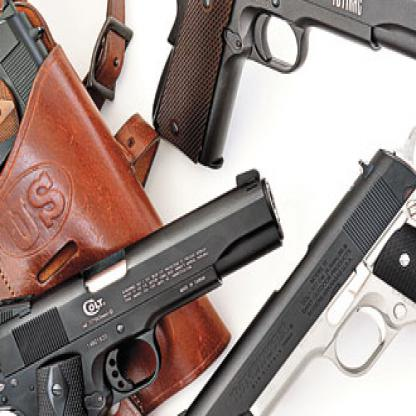gun: (0, 164, 293, 415), (170, 122, 415, 414), (146, 0, 415, 175)
